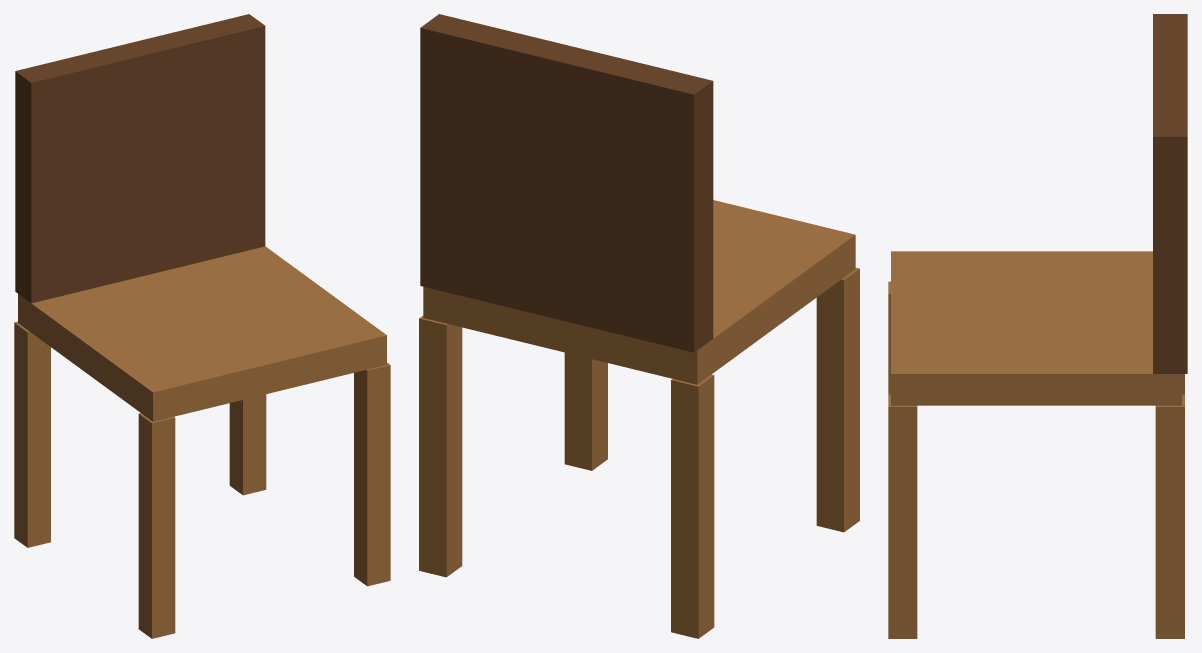
The model's file is chair.glb.
3 renders of one model, left to right at view 1: azimuth 30°, elevation 25°; view 2: azimuth 150°, elevation 25°; view 3: azimuth 270°, elevation 25°, orthographic. The views are drawn at different scales.
Visible parts, largest first — view 1: Back, Seat, Leg_0, Leg_1, Leg_2, Leg_3; view 2: Back, Seat, Leg_2, Leg_3, Leg_0, Leg_1; view 3: Seat, Back, Leg_1, Leg_3.
Boxes of the visible parts, box(x1,y1,x2,y2) form: Back: box(15, 14, 265, 303); Seat: box(18, 246, 386, 421); Leg_0: box(138, 413, 175, 638); Leg_1: box(354, 362, 390, 586); Leg_2: box(14, 321, 50, 547); Leg_3: box(229, 394, 266, 495); Back: box(420, 14, 713, 352); Seat: box(423, 200, 855, 384); Leg_2: box(671, 374, 714, 638); Leg_3: box(419, 316, 462, 577); Leg_0: box(816, 267, 859, 532); Leg_1: box(564, 352, 607, 470); Seat: box(891, 251, 1181, 405); Back: box(1153, 14, 1187, 373); Leg_1: box(888, 394, 917, 638); Leg_3: box(1155, 394, 1184, 638).
Size of the model in its own units: 0.51 by 0.95 by 0.515.
